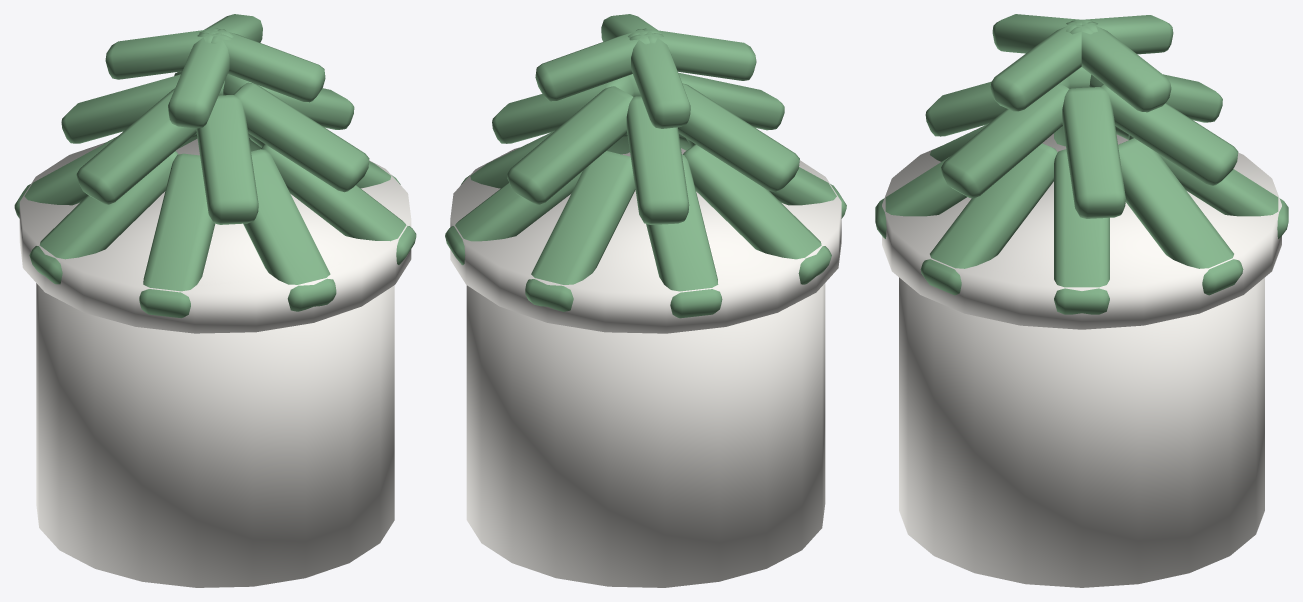
The model's file is greenery.desk-plant.glb.
3 renders of one model, left to right at view 1: azimuth 30°, elevation 25°; view 2: azimuth 150°, elevation 25°; view 3: azimuth 270°, elevation 25°, orthographic.
Parts seen in each view (by area): view 1: greenery.desk-plant; view 2: greenery.desk-plant; view 3: greenery.desk-plant.
Boxes of the visible parts, x1,y1,x2,y2 form: greenery.desk-plant: (14,14,416,587); greenery.desk-plant: (445,14,846,587); greenery.desk-plant: (875,14,1288,587).
Bounding box in the file's own units: 0.1469 × 0.1906 × 0.1469.
